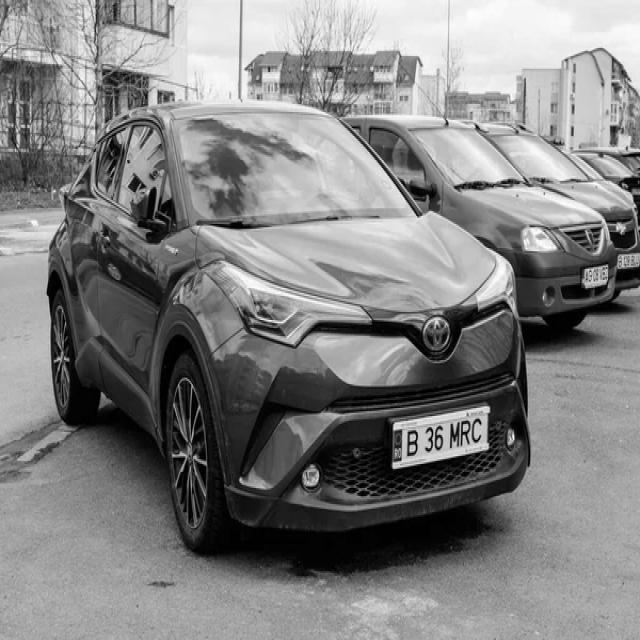Car: (47, 104, 531, 553), (346, 116, 616, 330), (479, 124, 640, 298)
